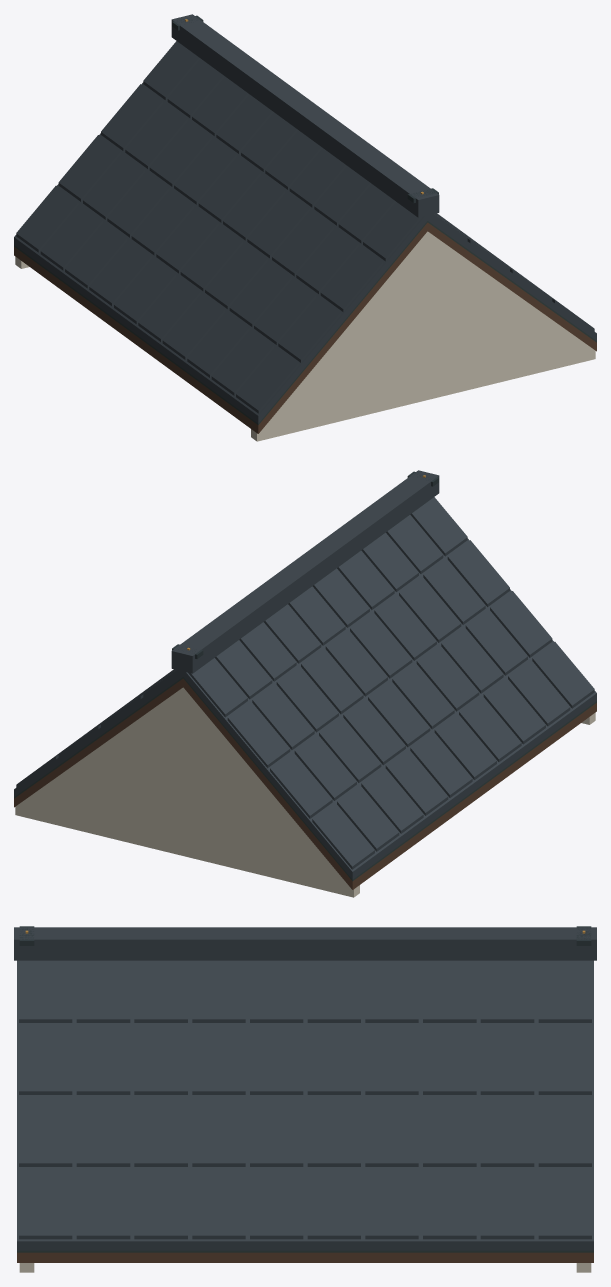
The model's file is visual-far.glb.
3 renders of one model, top to bottom at view 1: azimuth 30°, elevation 25°; view 2: azimuth 150°, elevation 25°; view 3: azimuth 270°, elevation 25°, orthographic. The views are drawn at different scales.
Parts seen in each view (by area): view 1: 连续封闭山墙屋面 · x; view 2: 连续封闭山墙屋面 · x; view 3: 连续封闭山墙屋面 · x.
Boxes of the visible parts, bbox=[...] form: 连续封闭山墙屋面 · x: bbox=[14, 14, 596, 441]; 连续封闭山墙屋面 · x: bbox=[14, 470, 596, 897]; 连续封闭山墙屋面 · x: bbox=[14, 926, 596, 1272].
Bounding box in the file's own units: 3.2 × 1.86 × 4.04.
6 materials, 6 textured.
